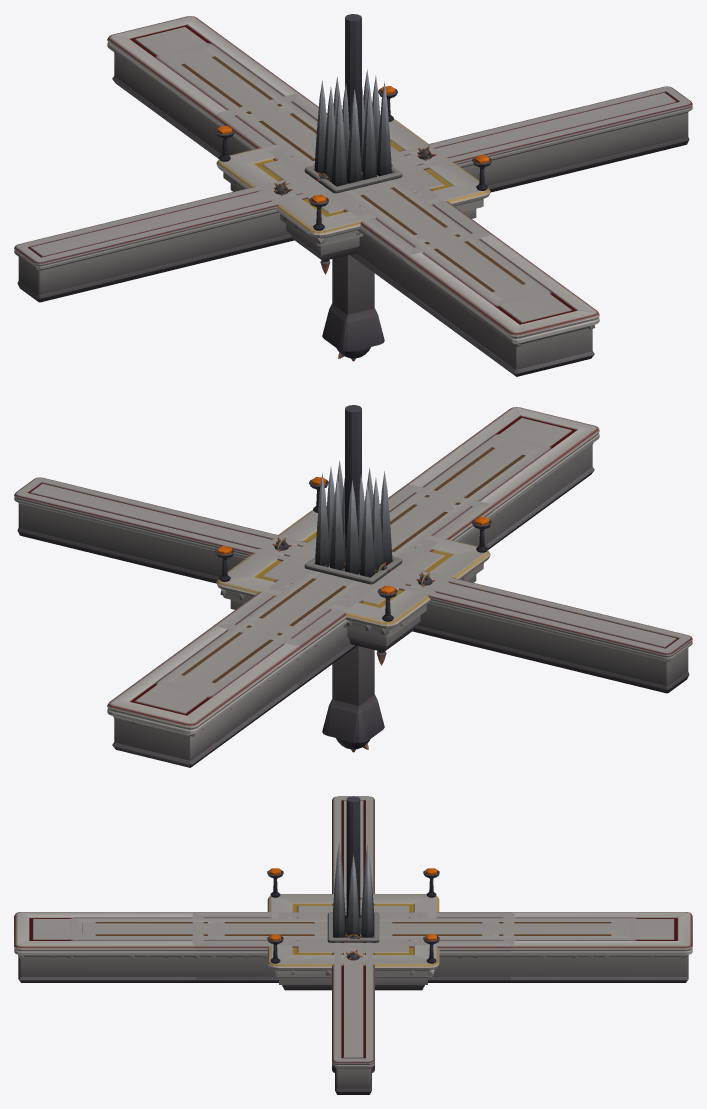
File: fortress-4-B0ZUJhZ3.glb
The picture shows the model from 3 angles, top to bottom: view 1: azimuth 30°, elevation 25°; view 2: azimuth 150°, elevation 25°; view 3: azimuth 270°, elevation 25°; orthographic projection. The views are drawn at different scales.
Parts seen in each view (by area): view 1: block_44x2x3#0, block_6x2x47.400000000000006#0, block_4x2x40_grate#1, pad_12x2x12#0, spikes_4x6x3#0, support_0_square#0, block_6x2x23#0, press_5x6x2#0, beam_2.5x1.5x36#1, block_6x2x11#0, jetVent_4x3#0, beam_2.5x1.5x18_plank#0; view 2: block_44x2x3#0, block_6x2x47.400000000000006#0, block_4x2x40_grate#1, pad_12x2x12#0, spikes_4x6x3#0, support_0_square#0, block_6x2x23#0, press_5x6x2#0, beam_2.5x1.5x36#1, block_6x2x11#0, jetVent_4x3#0, beam_2.5x1.5x18_plank#0; view 3: block_6x2x47.400000000000006#0, block_4x2x40_grate#1, pad_12x2x12#0, block_44x2x3#0, block_6x2x23#0, spikes_4x6x3#0, press_5x6x2#0, beam_2.5x1.5x36#1, block_6x2x11#0, beam_2.5x1.5x18_plank#0, jetVent_4x3#0.
Boxes of the visible parts, x1=… form: block_44x2x3#0: x1=14, y1=86, x2=692, y2=302; block_6x2x47.400000000000006#0: x1=107, y1=16, x2=599, y2=376; block_4x2x40_grate#1: x1=155, y1=43, x2=551, y2=307; pad_12x2x12#0: x1=214, y1=86, x2=492, y2=260; spikes_4x6x3#0: x1=314, y1=69, x2=391, y2=186; support_0_square#0: x1=322, y1=175, x2=384, y2=351; block_6x2x23#0: x1=213, y1=94, x2=491, y2=299; press_5x6x2#0: x1=320, y1=14, x2=362, y2=274; beam_2.5x1.5x36#1: x1=181, y1=56, x2=525, y2=291; block_6x2x11#0: x1=269, y1=147, x2=437, y2=261; jetVent_4x3#0: x1=304, y1=165, x2=402, y2=193; beam_2.5x1.5x18_plank#0: x1=259, y1=113, x2=447, y2=235; block_44x2x3#0: x1=14, y1=477, x2=692, y2=693; block_6x2x47.400000000000006#0: x1=107, y1=407, x2=599, y2=767; block_4x2x40_grate#1: x1=155, y1=434, x2=551, y2=698; pad_12x2x12#0: x1=214, y1=477, x2=492, y2=651; spikes_4x6x3#0: x1=315, y1=460, x2=392, y2=577; support_0_square#0: x1=322, y1=566, x2=384, y2=742; block_6x2x23#0: x1=215, y1=485, x2=493, y2=690; press_5x6x2#0: x1=344, y1=405, x2=386, y2=665; beam_2.5x1.5x36#1: x1=181, y1=447, x2=525, y2=682; block_6x2x11#0: x1=269, y1=538, x2=437, y2=652; jetVent_4x3#0: x1=304, y1=556, x2=402, y2=584; beam_2.5x1.5x18_plank#0: x1=259, y1=504, x2=447, y2=626; block_6x2x47.400000000000006#0: x1=14, y1=912, x2=692, y2=982; block_4x2x40_grate#1: x1=69, y1=917, x2=637, y2=940; pad_12x2x12#0: x1=267, y1=868, x2=439, y2=990; block_44x2x3#0: x1=332, y1=796, x2=374, y2=1094; block_6x2x23#0: x1=190, y1=912, x2=516, y2=982; spikes_4x6x3#0: x1=333, y1=842, x2=373, y2=937; press_5x6x2#0: x1=346, y1=796, x2=360, y2=917; beam_2.5x1.5x36#1: x1=95, y1=922, x2=611, y2=935; block_6x2x11#0: x1=278, y1=912, x2=428, y2=946; beam_2.5x1.5x18_plank#0: x1=224, y1=922, x2=482, y2=935; jetVent_4x3#0: x1=327, y1=912, x2=379, y2=942.
Bounding box in the file's own units: 44 × 21.98 × 47.4.
